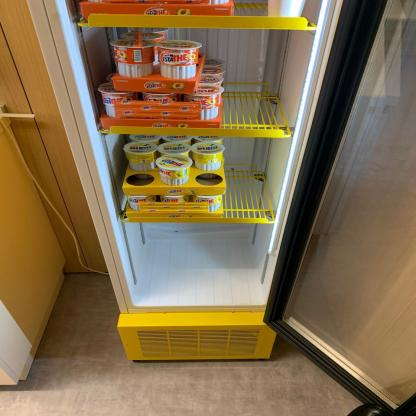pot: (160, 46, 200, 76), (116, 44, 148, 74), (164, 156, 188, 183)
